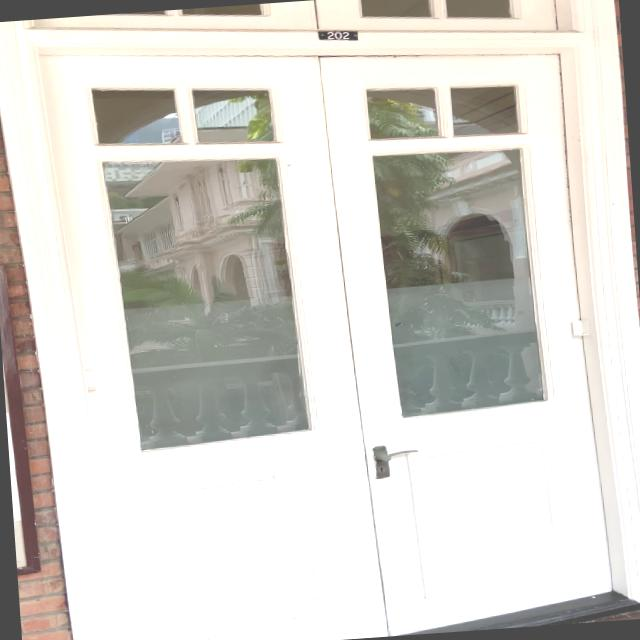room202: (315, 23, 362, 44)
